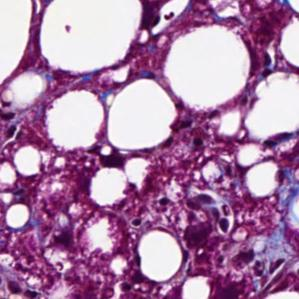inflammation: (182, 190, 236, 238), (234, 247, 289, 284)
